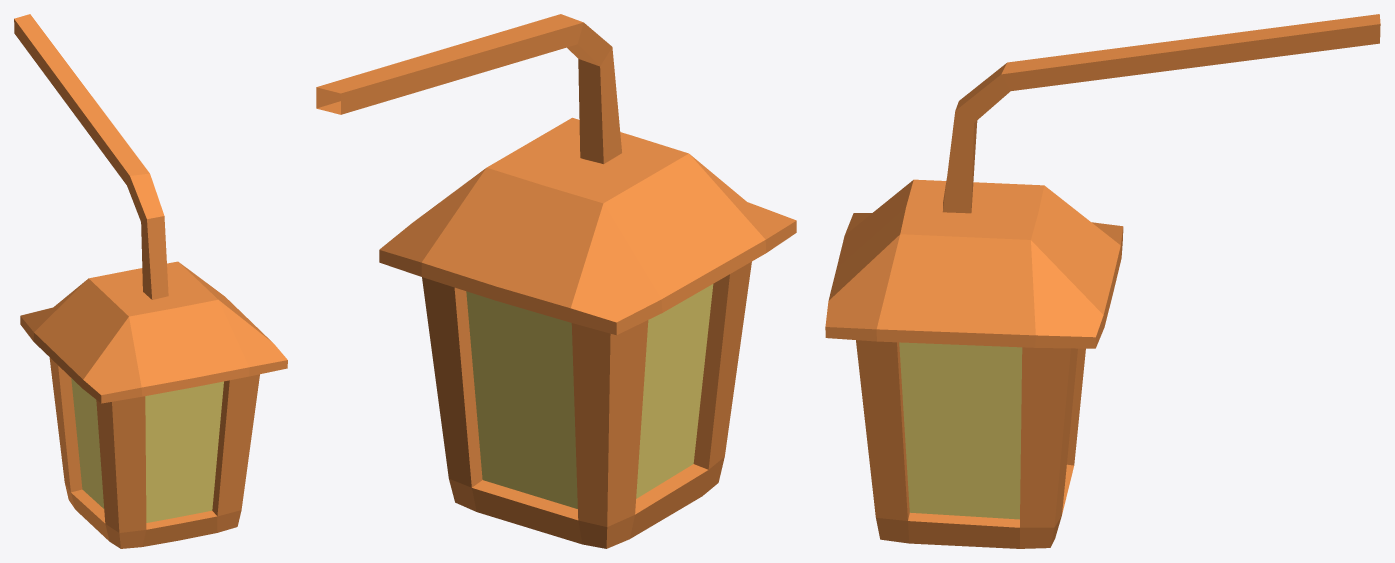
File: Lantern_1.fbx
The picture shows the model from 3 angles, left to right: view 1: azimuth 30°, elevation 25°; view 2: azimuth 150°, elevation 25°; view 3: azimuth 270°, elevation 25°; orthographic projection. The views are drawn at different scales.
Visible parts, largest first — view 1: Lantern_1; view 2: Lantern_1; view 3: Lantern_1.
Part boxes in pixels (x1,y1,x2,y2): Lantern_1: (14,14,287,548); Lantern_1: (316,14,796,548); Lantern_1: (825,14,1380,548).
Size of the model in its own units: 27.73 by 52.07 by 52.78.
